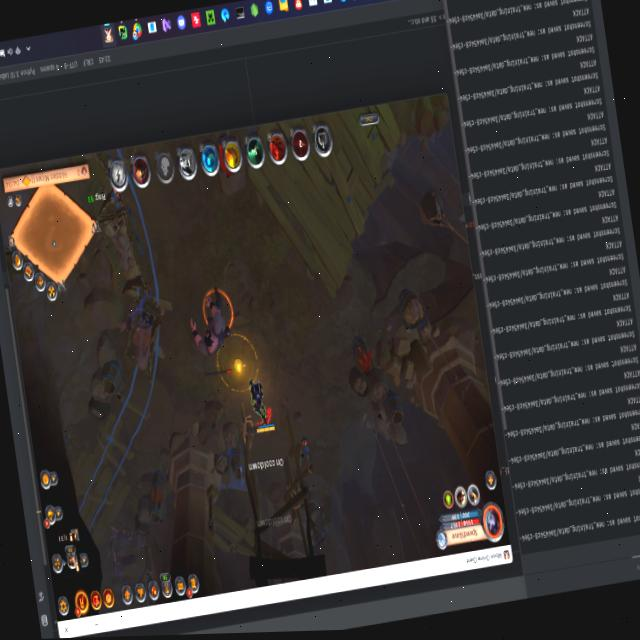ore: (180, 280, 248, 386), (108, 521, 134, 551), (130, 526, 150, 560), (102, 528, 122, 560), (108, 553, 126, 584)
red: (237, 372, 280, 442)
